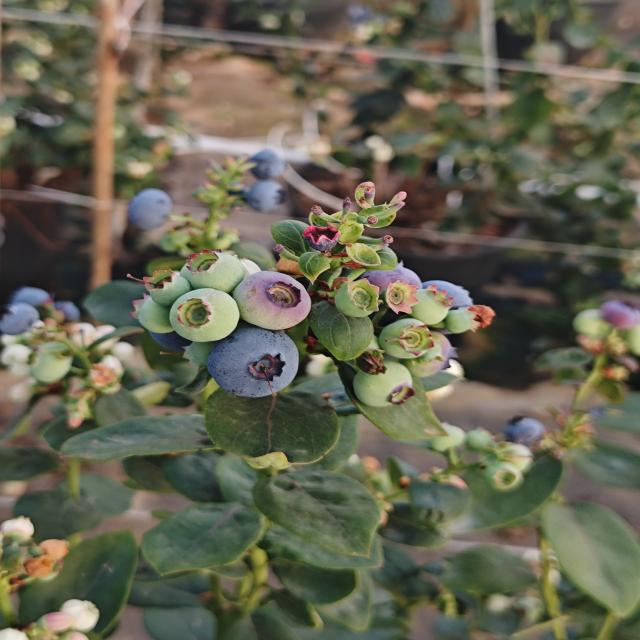ripe: (202, 321, 307, 399), (416, 277, 479, 338), (352, 261, 428, 309), (120, 186, 186, 232), (144, 310, 197, 354), (235, 180, 291, 215), (0, 298, 48, 338), (246, 146, 293, 181), (595, 296, 640, 329), (503, 414, 548, 444), (8, 283, 50, 314), (45, 298, 84, 330)
